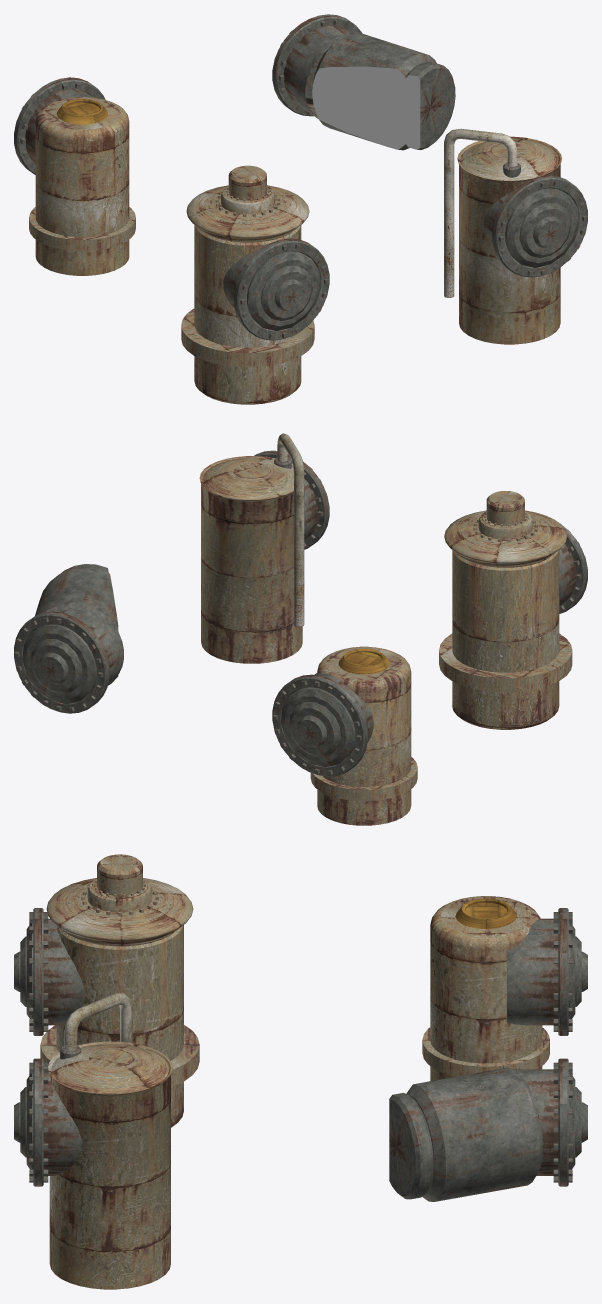
Rendered from static2.glb.
The picture shows the model from 3 angles, top to bottom: view 1: azimuth 30°, elevation 25°; view 2: azimuth 150°, elevation 25°; view 3: azimuth 270°, elevation 25°; orthographic projection. The views are drawn at different scales.
Visible parts, largest first — view 1: Cylinder_7, Cylinder_2_2, Cylinder_2_6, Tube, Cube, Cylinder_0, Cylinder_1_2, Cylinder_3_2, Cylinder_4, Cylinder_2, Cylinder_1, Sweep (+5 smaller); view 2: Cylinder_2_2, Cylinder_2_6, Cylinder_7, Tube, Cylinder_0, Cylinder_3_2, Cylinder_1_2, Cylinder_4, Cylinder_1, Cylinder_2, Sweep, Cylinder_5 (+3 smaller); view 3: Cylinder_2_2, Cylinder_2, Cylinder_7, Cylinder_1_2, Cylinder_2_6, Cylinder_3_2, Tube, Cylinder_3, Cylinder_5, Cylinder_0, Cylinder_2_5, Cylinder_1 (+4 smaller).
Boxes of the visible parts, x1,y1,x2,y2 form: Cylinder_7: [35, 97, 129, 275]; Cylinder_2_2: [457, 136, 561, 344]; Cylinder_2_6: [194, 225, 301, 404]; Tube: [14, 14, 587, 340]; Cube: [312, 66, 420, 149]; Cylinder_0: [247, 53, 579, 330]; Cylinder_1_2: [25, 25, 564, 308]; Cylinder_3_2: [186, 185, 309, 242]; Cylinder_4: [181, 308, 314, 367]; Cylinder_2: [312, 31, 436, 150]; Cylinder_1: [261, 202, 571, 320]; Sweep: [444, 128, 517, 297]; Cylinder_2_2: [199, 456, 302, 663]; Cylinder_2_6: [452, 550, 559, 729]; Cylinder_7: [317, 646, 411, 825]; Tube: [14, 450, 587, 776]; Cylinder_0: [22, 624, 354, 767]; Cylinder_3_2: [444, 510, 567, 567]; Cylinder_1_2: [58, 478, 576, 742]; Cylinder_4: [439, 633, 572, 692]; Cylinder_1: [30, 639, 340, 757]; Cylinder_2: [35, 567, 118, 685]; Sweep: [277, 433, 304, 627]; Cylinder_5: [478, 491, 532, 539]; Cylinder_2_2: [48, 1041, 172, 1289]; Cylinder_2: [406, 1067, 542, 1201]; Cylinder_7: [430, 896, 542, 1081]; Cylinder_1_2: [43, 918, 558, 1175]; Cylinder_2_6: [56, 925, 183, 1127]; Cylinder_3_2: [46, 878, 193, 946]; Tube: [33, 908, 568, 1186]; Cylinder_3: [389, 1093, 433, 1199]; Cylinder_5: [87, 854, 152, 912]; Cylinder_0: [26, 923, 575, 1169]; Cylinder_2_5: [422, 1027, 549, 1076]; Cylinder_1: [20, 936, 581, 1157].
Bounding box in the file's own units: 6.05 × 3.11 × 6.45.
Materials: 4 (4 with a texture image).
